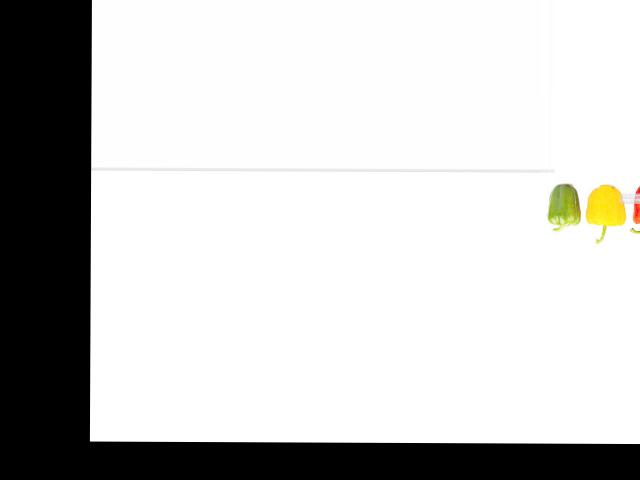bell_pepper: (543, 180, 579, 238)
